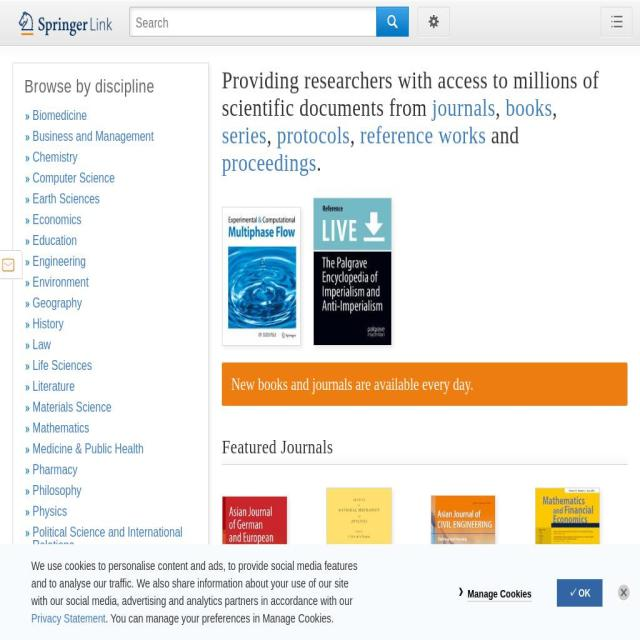button: (311, 196, 393, 362), (220, 204, 302, 363), (534, 487, 600, 619), (326, 487, 390, 619), (430, 494, 495, 612), (222, 495, 286, 611), (22, 522, 200, 556), (22, 106, 200, 126), (22, 126, 200, 146), (22, 148, 200, 168), (22, 168, 200, 188), (22, 189, 200, 209), (22, 210, 200, 230), (22, 231, 200, 251), (22, 252, 200, 272), (22, 272, 200, 292), (22, 294, 200, 314), (22, 314, 200, 334), (22, 335, 200, 355), (22, 356, 200, 376), (22, 376, 200, 396), (22, 398, 200, 418), (22, 418, 200, 438), (22, 439, 200, 459), (22, 460, 200, 480), (22, 481, 200, 501), (22, 502, 200, 522), (22, 556, 200, 576), (22, 578, 200, 598), (22, 598, 200, 618), (19, 11, 116, 44), (467, 586, 532, 602), (418, 6, 450, 36), (600, 6, 632, 36), (0, 250, 22, 279)
field: (130, 7, 376, 36), (376, 6, 409, 36)
heading: (222, 66, 600, 121), (221, 434, 626, 458), (24, 76, 209, 97), (360, 121, 487, 148), (221, 148, 317, 176), (277, 121, 351, 148), (432, 93, 496, 121), (505, 93, 553, 121), (221, 121, 267, 148), (486, 121, 520, 148), (495, 93, 506, 121), (266, 121, 277, 148), (350, 121, 361, 148), (316, 148, 322, 176), (552, 93, 557, 121)
image: (312, 198, 390, 344), (222, 206, 300, 344), (534, 487, 600, 618), (326, 487, 390, 618), (430, 494, 495, 610), (222, 495, 286, 609), (19, 11, 300, 36), (418, 7, 450, 36), (376, 7, 408, 35), (617, 582, 631, 602), (2, 258, 15, 272)
link: (31, 612, 106, 625), (568, 586, 591, 599)
text: (31, 559, 358, 608), (231, 374, 473, 394), (105, 612, 334, 625), (13, 637, 208, 640)
